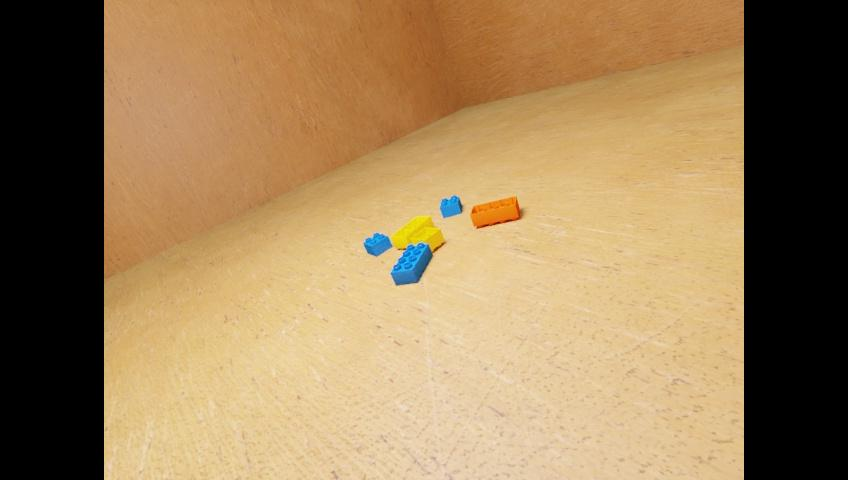2x2_blue: (362, 232, 391, 256), (439, 194, 461, 218)
2x2_yellow: (410, 227, 443, 251)
4x2_blue: (390, 241, 432, 285)
4x2_orange: (470, 195, 518, 227)
4x2_yellow: (390, 215, 433, 249)
